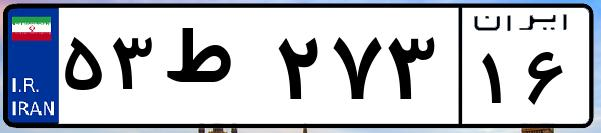1: (475, 38, 525, 113)
2: (270, 28, 330, 110)
3: (385, 28, 445, 110), (110, 28, 158, 98)
5: (57, 26, 110, 100)
6: (525, 38, 570, 115)
7: (330, 28, 385, 110)
ط: (158, 20, 270, 120)
